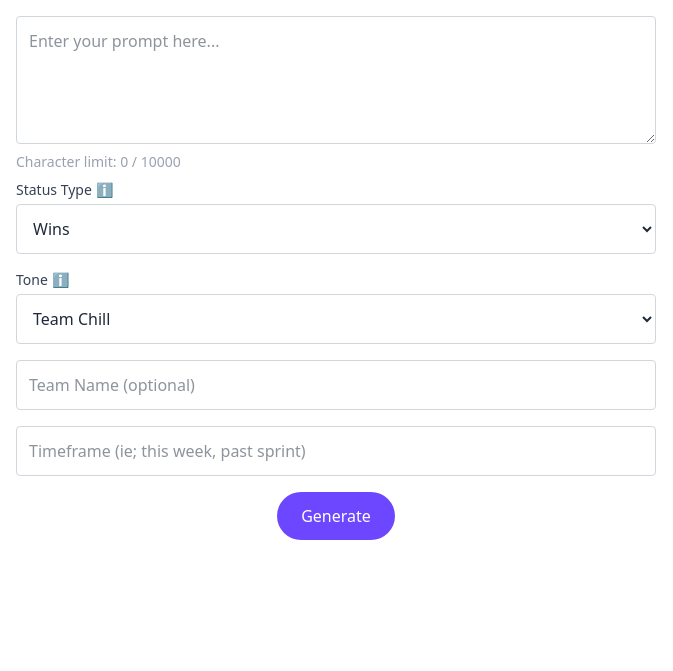
Scenario: PromptForm › submits prompt and displays summary from API
The image size is (673, 671).
Type "Sprint wins" into the text box with placeholder "Enter your prompt here...".
click(336, 80); type("Sprint wins")  # box [16,16,656,144]
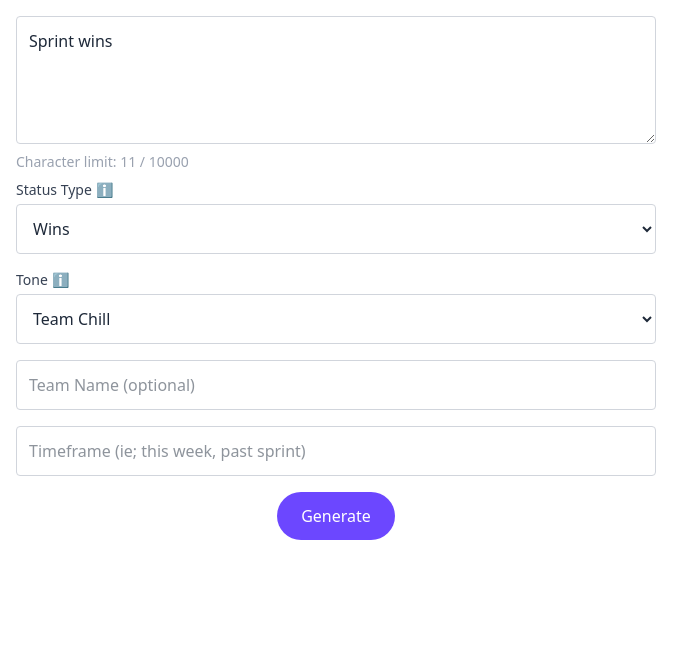
Click the button "Generate".
click(336, 516)  # box [277,492,395,540]
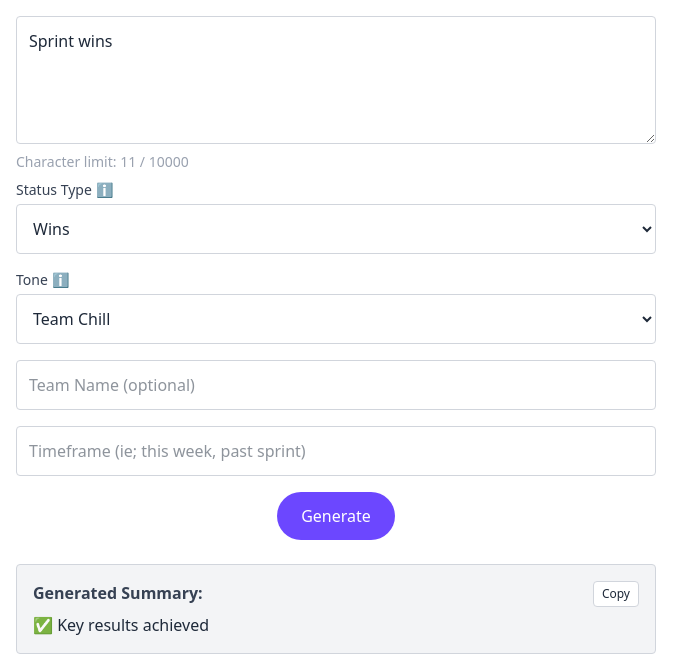
Expected: the heading "Generated Summary:" is shown, [33,582,203,604]
Expected: the text "✅ Key results achieved" is shown, [33,614,209,636]
